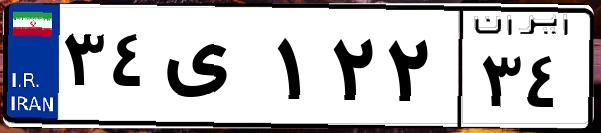1: (270, 28, 330, 110)
2: (385, 28, 445, 110), (330, 28, 385, 110)
3: (57, 26, 110, 100), (475, 38, 525, 113)
4: (525, 38, 570, 115), (110, 28, 158, 98)
ی: (158, 20, 270, 120)
